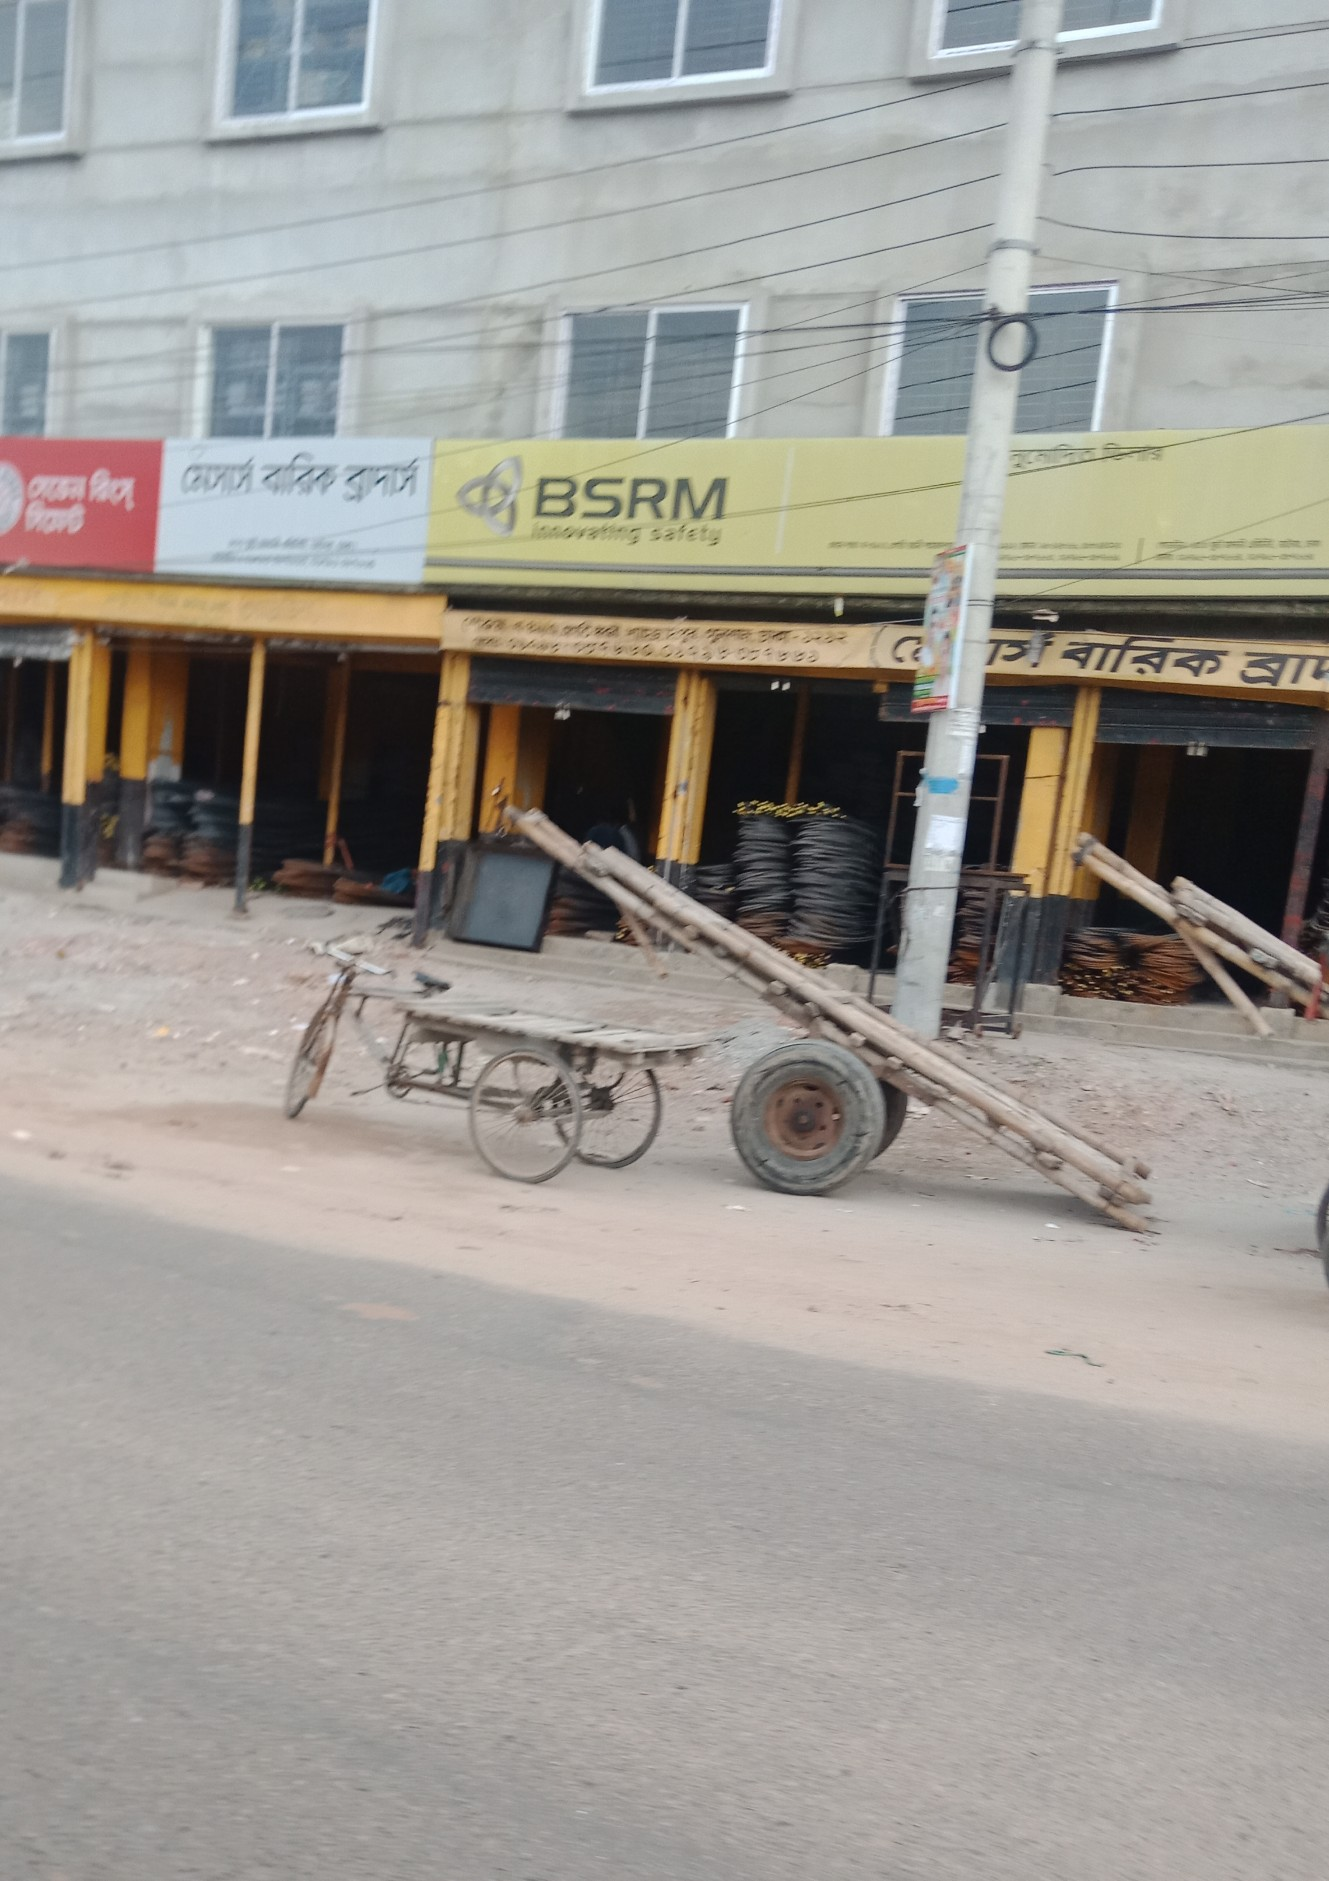van: (268, 938, 713, 1198)
wheelbarrow: (501, 797, 1164, 1241)
